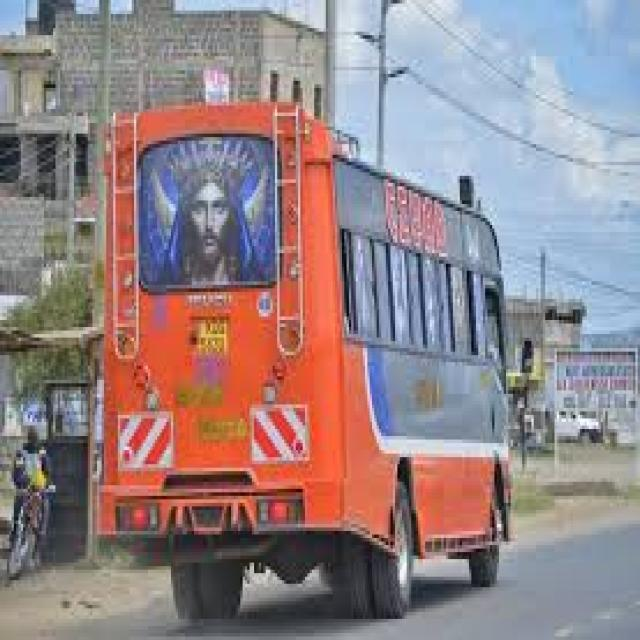bus: (70, 57, 564, 628)
